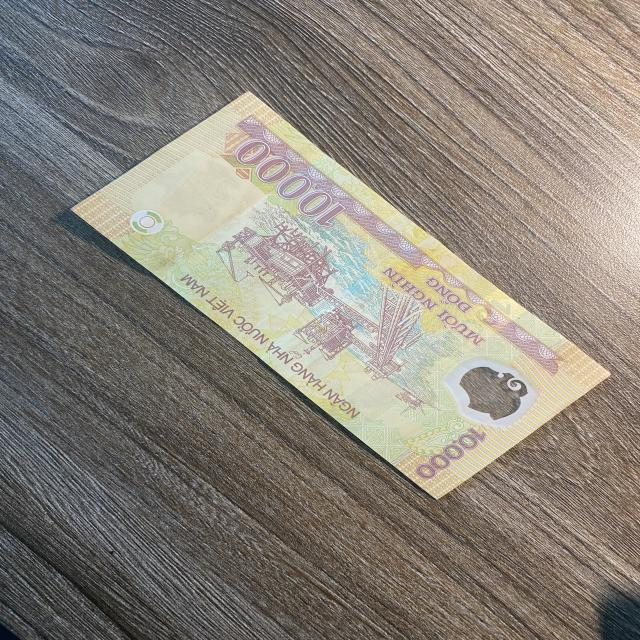10 000 VND: (69, 88, 615, 502)
